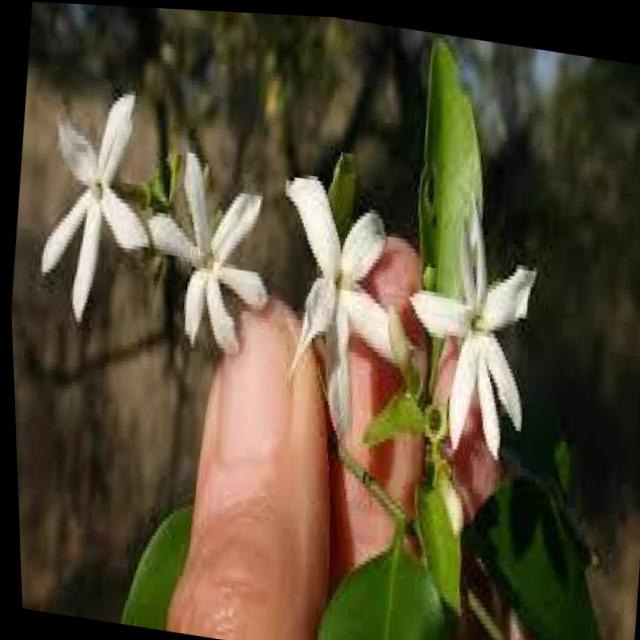Flower: (254, 155, 429, 433), (392, 193, 550, 466), (20, 70, 170, 334), (133, 134, 277, 374)
